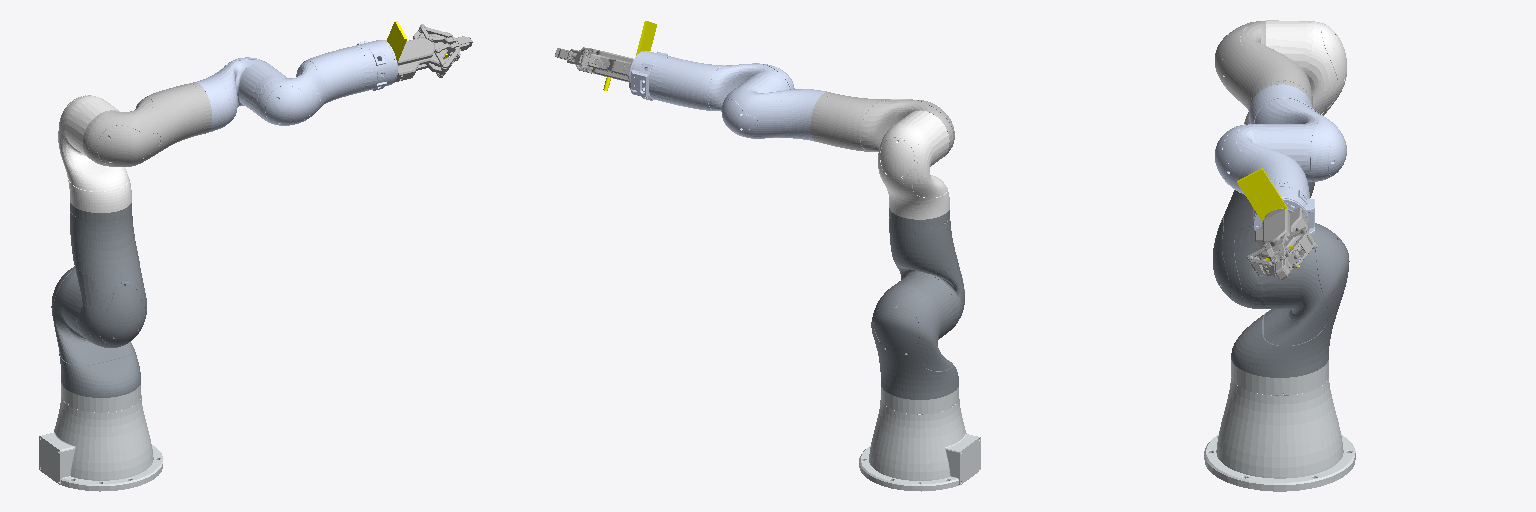
--- Facts derived from the render (not from the file) ---
3 views of the same robot in one strip: view 1: azimuth 30°, elevation 25°; view 2: azimuth 150°, elevation 25°; view 3: azimuth 270°, elevation 25° (orthographic).
Robot: srxrg_description — 25 links, 24 joints (7 revolute, 17 fixed); root link base_link; default pose: every joint at zero.
Links seen in each view (by area): view 1: base_link, Link2, Link6, Link4, Link1, Link3, Link5, Finger_base; view 2: base_link, Link1, Link3, Link6, Link4, Link5, Link2, Finger_base; view 3: base_link, Link1, Link5, Link4, Link6, Link3, Link2, Finger_base, link_line2.
Boxes of the visible links, <box> form: base_link: <box>39,383,162,491</box>; Link2: <box>70,203,146,347</box>; Link6: <box>252,40,395,125</box>; Link4: <box>83,82,211,166</box>; Link1: <box>51,266,140,397</box>; Link3: <box>58,95,131,212</box>; Link5: <box>196,57,284,133</box>; Finger_base: <box>385,33,447,81</box>; base_link: <box>859,387,980,491</box>; Link1: <box>871,273,958,399</box>; Link3: <box>878,110,949,219</box>; Link6: <box>631,51,794,110</box>; Link4: <box>810,92,954,156</box>; Link5: <box>721,75,826,141</box>; Link2: <box>889,208,964,330</box>; Finger_base: <box>587,50,633,81</box>; base_link: <box>1204,360,1355,491</box>; Link1: <box>1231,223,1349,377</box>; Link5: <box>1249,84,1346,181</box>; Link4: <box>1215,21,1312,110</box>; Link6: <box>1215,124,1314,234</box>; Link3: <box>1244,20,1346,124</box>; Link2: <box>1213,182,1314,308</box>; Finger_base: <box>1255,207,1308,260</box>; link_line2: <box>1237,168,1287,221</box>.
Size in the robot's own frame: 1.02 by 0.2598 by 0.8767 metres.
Meshes: 22 distinct files referenced, 22 mesh visuals loaded (22 binary STL).

robot.urdf — srxrg_description:
<robot
  name="srxrg_description">
  <link
    name="base_link">
    <inertial>
      <origin
        xyz="6.18219973711621E-06 0.000110386200661946 0.0668513713138598"
        rpy="0 0 0" />
      <mass
        value="3.12465417836201" />
      <inertia
        ixx="0.0240498298161914"
        ixy="5.53711229274737E-06"
        ixz="0.000240064013281234"
        iyy="0.0242274478295567"
        iyz="2.21358552459403E-05"
        izz="0.029864919468608" />
    </inertial>
    <visual>
      <origin
        xyz="0 0 0"
        rpy="0 0 0" />
      <geometry>
        <mesh
          filename="package://srxrg_description/meshes/base_link.STL" />
      </geometry>
      <material
        name="">
        <color
          rgba="0.898039215686275 0.917647058823529 0.929411764705882 1" />
      </material>
    </visual>
    <collision>
      <origin
        xyz="0 0 0"
        rpy="0 0 0" />
      <geometry>
        <mesh
          filename="package://srxrg_description/meshes/base_link.STL" />
      </geometry>
    </collision>
  </link>
  <link
    name="Link1">
    <inertial>
      <origin
        xyz="-0.000128335511665844 0.0323463091239493 0.111187858731537"
        rpy="0 0 0" />
      <mass
        value="1.96730291027439" />
      <inertia
        ixx="0.0150690524757784"
        ixy="-1.12038982022744E-05"
        ixz="-4.45687986097695E-06"
        iyy="0.0160665734255536"
        iyz="-0.00229312392126841"
        izz="0.00952655545819821" />
    </inertial>
    <visual>
      <origin
        xyz="0 0 0"
        rpy="0 0 0" />
      <geometry>
        <mesh
          filename="package://srxrg_description/meshes/Link1.STL" />
      </geometry>
      <material
        name="">
        <color
          rgba="0.592156862745098 0.619607843137255 0.650980392156863 1" />
      </material>
    </visual>
    <collision>
      <origin
        xyz="0 0 0"
        rpy="0 0 0" />
      <geometry>
        <mesh
          filename="package://srxrg_description/meshes/Link1.STL" />
      </geometry>
    </collision>
  </link>
  <joint
    name="Joint1"
    type="revolute">
    <origin
      xyz="0 0 0.19398"
      rpy="0 0 0" />
    <parent
      link="base_link" />
    <child
      link="Link1" />
    <axis
      xyz="0 0 -1" />
    <limit
      lower="-3"
      upper="3"
      effort="1"
      velocity="1" />
  </joint>
  <link
    name="Link2">
    <inertial>
      <origin
        xyz="1.10567326507469E-05 -0.00946904329682436 0.0939290191650072"
        rpy="0 0 0" />
      <mass
        value="1.78543772270183" />
      <inertia
        ixx="0.0161848642432049"
        ixy="-1.51273608600709E-05"
        ixz="-1.29116349344172E-06"
        iyy="0.0158966771178665"
        iyz="-0.00409508229104811"
        izz="0.00726322203852272" />
    </inertial>
    <visual>
      <origin
        xyz="0 0 0"
        rpy="0 0 0" />
      <geometry>
        <mesh
          filename="package://srxrg_description/meshes/Link2.STL" />
      </geometry>
      <material
        name="">
        <color
          rgba="0.592156862745098 0.619607843137255 0.650980392156863 1" />
      </material>
    </visual>
    <collision>
      <origin
        xyz="0 0 0"
        rpy="0 0 0" />
      <geometry>
        <mesh
          filename="package://srxrg_description/meshes/Link2.STL" />
      </geometry>
    </collision>
  </link>
  <joint
    name="Joint2"
    type="revolute">
    <origin
      xyz="0 -0.025 0.174"
      rpy="0 0 0" />
    <parent
      link="Link1" />
    <child
      link="Link2" />
    <axis
      xyz="0 -1 0" />
    <limit
      lower="-1.6"
      upper="1.6"
      effort="1"
      velocity="1" />
  </joint>
  <link
    name="Link3">
    <inertial>
      <origin
        xyz="-7.83302158362621E-05 0.0313850641303462 0.0991455006195104"
        rpy="0 0 0" />
      <mass
        value="1.39140771876416" />
      <inertia
        ixx="0.00800853215266351"
        ixy="1.22388946499061E-06"
        ixz="3.50492613439431E-06"
        iyy="0.00761689423428402"
        iyz="-0.00131227411193644"
        izz="0.00474551559743404" />
    </inertial>
    <visual>
      <origin
        xyz="0 0 0"
        rpy="0 0 0" />
      <geometry>
        <mesh
          filename="package://srxrg_description/meshes/Link3.STL" />
      </geometry>
      <material
        name="">
        <color
          rgba="1 1 1 1" />
      </material>
    </visual>
    <collision>
      <origin
        xyz="0 0 0"
        rpy="0 0 0" />
      <geometry>
        <mesh
          filename="package://srxrg_description/meshes/Link3.STL" />
      </geometry>
    </collision>
  </link>
  <joint
    name="Joint3"
    type="revolute">
    <origin
      xyz="0 0.026 0.2425"
      rpy="0 0 0" />
    <parent
      link="Link2" />
    <child
      link="Link3" />
    <axis
      xyz="0 0 -1" />
    <limit
      lower="-3"
      upper="3"
      effort="1"
      velocity="1" />
  </joint>
  <link
    name="Link4">
    <inertial>
      <origin
        xyz="0.0947908187874369 -0.00801710477913438 -2.83157713372173E-05"
        rpy="0 0 0" />
      <mass
        value="1.46476320455676" />
      <inertia
        ixx="0.00463862166180409"
        ixy="-0.00288786881699861"
        ixz="-4.42206129449527E-06"
        iyy="0.0112891891632063"
        iyz="-1.81567403720448E-06"
        izz="0.0119504171556014" />
    </inertial>
    <visual>
      <origin
        xyz="0 0 0"
        rpy="0 0 0" />
      <geometry>
        <mesh
          filename="package://srxrg_description/meshes/Link4.STL" />
      </geometry>
      <material
        name="">
        <color
          rgba="0.823529411764706 0.823529411764706 0.823529411764706 1" />
      </material>
    </visual>
    <collision>
      <origin
        xyz="0 0 0"
        rpy="0 0 0" />
      <geometry>
        <mesh
          filename="package://srxrg_description/meshes/Link4.STL" />
      </geometry>
    </collision>
  </link>
  <joint
    name="Joint4"
    type="revolute">
    <origin
      xyz="0 -0.025 0.1565"
      rpy="0 0 0" />
    <parent
      link="Link3" />
    <child
      link="Link4" />
    <axis
      xyz="0 1 0" />
    <limit
      lower="-3.5"
      upper="0.5"
      effort="1"
      velocity="1" />
  </joint>
  <link
    name="Link5">
    <inertial>
      <origin
        xyz="0.106843142604246 0.0287001212366735 -3.60623013119232E-05"
        rpy="0 0 0" />
      <mass
        value="1.02273553752168" />
      <inertia
        ixx="0.002964046072699"
        ixy="-0.000844024479509373"
        ixz="3.40061695549146E-06"
        iyy="0.00504265872682255"
        iyz="7.16181309267036E-06"
        izz="0.0055823228976265" />
    </inertial>
    <visual>
      <origin
        xyz="0 0 0"
        rpy="0 0 0" />
      <geometry>
        <mesh
          filename="package://srxrg_description/meshes/Link5.STL" />
      </geometry>
      <material
        name="">
        <color
          rgba="0.866666666666667 0.909803921568627 1 1" />
      </material>
    </visual>
    <collision>
      <origin
        xyz="0 0 0"
        rpy="0 0 0" />
      <geometry>
        <mesh
          filename="package://srxrg_description/meshes/Link5.STL" />
      </geometry>
    </collision>
  </link>
  <joint
    name="Joint5"
    type="revolute">
    <origin
      xyz="0.2375 0.026 0"
      rpy="0 0 0" />
    <parent
      link="Link4" />
    <child
      link="Link5" />
    <axis
      xyz="-1 0 0" />
    <limit
      lower="-3"
      upper="3"
      effort="1"
      velocity="1" />
  </joint>
  <link
    name="Link6">
    <inertial>
      <origin
        xyz="0.143694679335365 0.00111898266691152 -5.3497448055051E-05"
        rpy="0 0 0" />
      <mass
        value="1.39121310720524" />
      <inertia
        ixx="0.00400822242212615"
        ixy="-0.00439228582807588"
        ixz="-9.75107697749659E-06"
        iyy="0.0170317835841505"
        iyz="-5.19667773736681E-06"
        izz="0.0183671607921586" />
    </inertial>
    <visual>
      <origin
        xyz="0 0 0"
        rpy="0 0 0" />
      <geometry>
        <mesh
          filename="package://srxrg_description/meshes/Link6.STL" />
      </geometry>
      <material
        name="">
        <color
          rgba="0.866666666666667 0.909803921568627 1 1" />
      </material>
    </visual>
    <collision>
      <origin
        xyz="0 0 0"
        rpy="0 0 0" />
      <geometry>
        <mesh
          filename="package://srxrg_description/meshes/Link6.STL" />
      </geometry>
    </collision>
  </link>
  <joint
    name="Joint6"
    type="revolute">
    <origin
      xyz="0.1615 -0.025 0"
      rpy="0 0 0" />
    <parent
      link="Link5" />
    <child
      link="Link6" />
    <axis
      xyz="0 1 0" />
    <limit
      lower="-1.6"
      upper="1.6"
      effort="1"
      velocity="1" />
  </joint>
  <link
    name="Link7">
    <inertial>
      <origin
        xyz="-0.00443587816203461 -0.000123356437246248 6.90609373515949E-05"
        rpy="0 0 0" />
      <mass
        value="0.104269808522714" />
      <inertia
        ixx="0.000120663494046373"
        ixy="6.98616363357894E-08"
        ixz="-3.91119441998246E-08"
        iyy="6.09981740663255E-05"
        iyz="8.42486933498109E-07"
        izz="6.20313804954419E-05" />
    </inertial>
    <visual>
      <origin
        xyz="0 0 0"
        rpy="0 0 0" />
      <geometry>
        <mesh
          filename="package://srxrg_description/meshes/Link7.STL" />
      </geometry>
      <material
        name="">
        <color
          rgba="0.866666666666667 0.909803921568627 1 1" />
      </material>
    </visual>
    <collision>
      <origin
        xyz="0 0 0"
        rpy="0 0 0" />
      <geometry>
        <mesh
          filename="package://srxrg_description/meshes/Link7.STL" />
      </geometry>
    </collision>
  </link>
  <joint
    name="Joint7"
    type="revolute">
    <origin
      xyz="0.2905 0.026 0"
      rpy="0 0 0" />
    <parent
      link="Link6" />
    <child
      link="Link7" />
    <axis
      xyz="1 0 0" />
    <limit
      lower="-3"
      upper="3"
      effort="1"
      velocity="1" />
  </joint>
  <link
    name="Finger_base">
    <inertial>
      <origin
        xyz="-4.59930748533685E-05 0.0542361094507421 1.95299280505434E-05"
        rpy="0 0 0" />
      <mass
        value="0.343276115810123" />
      <inertia
        ixx="0.00053567128798686"
        ixy="-2.8796105914494E-07"
        ixz="2.48296916125466E-07"
        iyy="0.000205643355331306"
        iyz="-8.30871836722152E-08"
        izz="0.000616487064691526" />
    </inertial>
    <visual>
      <origin
        xyz="0 0 0"
        rpy="0 0 0" />
      <geometry>
        <mesh
          filename="package://srxrg_description/meshes/Finger_base.STL" />
      </geometry>
      <material
        name="">
        <color
          rgba="0.752941176470588 0.752941176470588 0.752941176470588 1" />
      </material>
    </visual>
    <collision>
      <origin
        xyz="0 0 0"
        rpy="0 0 0" />
      <geometry>
        <mesh
          filename="package://srxrg_description/meshes/Finger_base.STL" />
      </geometry>
    </collision>
  </link>
  <joint
    name="Joint_finger"
    type="fixed">
    <origin
      xyz="0.0035 0 0"
      rpy="3.1416 -0.5236 1.5708" />
    <parent
      link="Link7" />
    <child
      link="Finger_base" />
    <axis
      xyz="0 0 0" />
  </joint>
  <link name="link_line">
    <visual>
      <origin rpy="0 0 0" xyz=" 0 0 0"/>
      <geometry>
        <cylinder length="0.03" radius="0.005"/>
      </geometry>
      <material name="blue">
        <color rgba="1 1 0 1" />
      </material>
    </visual>
    <collision>
      <origin rpy="0 0 0" xyz=" 0 0 0"/>
      <geometry>
        <box size="0.005 0.005 0.03"/>
      </geometry>
    </collision>
    <inertial>
      <origin xyz="0 0 0" rpy="0 0 0"/>
      <mass value="1"/>
      <inertia
                                ixx="0.3342" ixy="0.0" ixz="0.0"
                                iyy="0.3342" iyz="0.0"
                                izz="0.0017"/>
    </inertial>
  </link>
  <joint
    name="Joint_line"
    type="fixed">
    <origin
      xyz="0 0.065 0.040"
      rpy="0 0 0" />
    <parent
      link="Finger_base" />
    <child
      link="link_line" />
  </joint>
  <link name="link_line2">
    <visual>
      <origin rpy="0 0 0" xyz=" 0 0 0"/>
      <geometry>
        <box size="0.05 0.006 0.10"/>
      </geometry>
      <material name="blue">
        <color rgba="1 1 0 1" />
      </material>
    </visual>
    <collision>
      <origin rpy="0 0 0" xyz=" 0 0 0"/>
      <geometry>
        <box size="0.05 0.02 0.10"/>
      </geometry>
    </collision>
    <inertial>
      <origin xyz="0 0 0" rpy="0 0 0"/>
      <mass value="1"/>
      <inertia
                                ixx="0.3342" ixy="0.0" ixz="0.0"
                                iyy="0.3342" iyz="0.0"
                                izz="0.0017"/>
    </inertial>
  </link>
  <joint
    name="Joint_line2"
    type="fixed">
    <origin
      xyz="0 0 -0.06"
      rpy="0 0 0" />
    <parent
      link="Finger_base" />
    <child
      link="link_line2" />
  </joint>
  <link name="link_line3">
    <visual>
      <origin rpy="0 0 0" xyz=" 0 0 0"/>
      <geometry>
        <box size="0.05 0.02 0.02"/>
      </geometry>
      <material name="blue">
        <color rgba="1 1 0 1.0" />
      </material>
    </visual>
    <collision>
      <origin rpy="0 0 0" xyz=" 0 0 0"/>
      <geometry>
        <box size="0.15 0.20 0.05"/>
      </geometry>
    </collision>
    <inertial>
      <origin xyz="0 0 0" rpy="0 0 0"/>
      <mass value="1"/>
      <inertia
                                ixx="0.3342" ixy="0.0" ixz="0.0"
                                iyy="0.3342" iyz="0.0"
                                izz="0.0017"/>
    </inertial>
  </link>
  <joint
    name="Joint_line3"
    type="fixed">
    <origin
      xyz="0 0.12 0"
      rpy="0 0 0" />
    <parent
      link="Finger_base" />
    <child
      link="link_line3" />
  </joint>
  <link
    name="Finger_pri">
    <inertial>
      <origin
        xyz="0.0888036924475795 -1.04665581757146E-12 -0.00200000000011058"
        rpy="0 0 0" />
      <mass
        value="0.00662164796630453" />
      <inertia
        ixx="1.47189453046195E-06"
        ixy="1.68519211059206E-17"
        ixz="9.162498314521E-19"
        iyy="1.8935961543657E-07"
        iyz="4.28965014181768E-17"
        izz="1.42118542904774E-06" />
    </inertial>
    <visual>
      <origin
        xyz="0 0 0"
        rpy="0 0 0" />
      <geometry>
        <mesh
          filename="package://srxrg_description/meshes/Finger_pri.STL" />
      </geometry>
      <material
        name="">
        <color
          rgba="0.752941176470588 0.752941176470588 0.752941176470588 1" />
      </material>
    </visual>
    <collision>
      <origin
        xyz="0 0 0"
        rpy="0 0 0" />
      <geometry>
        <mesh
          filename="package://srxrg_description/meshes/Finger_pri.STL" />
      </geometry>
    </collision>
  </link>
  <joint
    name="Joint_finger_pri"
    type="fixed">
    <origin
      xyz="0 -0.0035 0"
      rpy="3.1416 0 1.5708" />
    <parent
      link="Finger_base" />
    <child
      link="Finger_pri" />
    <axis
      xyz="1 0 0" />
    <limit
      lower="-0.2"
      upper="0"
      effort="1"
      velocity="1" />
		<mimic
			joint ="Joint_left4"
			multiplier="0.035"
			offset="0"/>
  </joint>
  <link
    name="Finger_left1">
    <inertial>
      <origin
        xyz="0.0113775739324964 -0.0227982147778134 -0.00550000003910178"
        rpy="0 0 0" />
      <mass
        value="0.0067721584163023" />
      <inertia
        ixx="1.13031775220139E-06"
        ixy="5.67848789197471E-07"
        ixz="-6.119724990539E-16"
        iyy="8.61820278601456E-07"
        iyz="-3.43012960849989E-15"
        izz="1.40053151762759E-06" />
    </inertial>
    <visual>
      <origin
        xyz="0 0 0"
        rpy="0 0 0" />
      <geometry>
        <mesh
          filename="package://srxrg_description/meshes/Finger_left1.STL" />
      </geometry>
      <material
        name="">
        <color
          rgba="0.752941176470588 0.752941176470588 0.752941176470588 1" />
      </material>
    </visual>
    <collision>
      <origin
        xyz="0 0 0"
        rpy="0 0 0" />
      <geometry>
        <mesh
          filename="package://srxrg_description/meshes/Finger_left1.STL" />
      </geometry>
    </collision>
  </link>
  <joint
    name="Joint_left1"
    type="fixed">
    <origin
      xyz="0.088804 -0.02135 0.0055"
      rpy="0 0 0" />
    <parent
      link="Finger_pri" />
    <child
      link="Finger_left1" />
    <axis
      xyz="0 0 1" />
    <limit
      lower="-3"
      upper="3"
      effort="1"
      velocity="1" />
		<mimic
			joint ="Joint_left4"
			multiplier="-0.34"
			offset="0"/>
  </joint>
  <link
    name="Finger_right1">
    <inertial>
      <origin
        xyz="0.0113775739324979 0.0227982147778138 -0.00749999996089812"
        rpy="0 0 0" />
      <mass
        value="0.00677215841630222" />
      <inertia
        ixx="1.13031775220137E-06"
        ixy="-5.67848789197465E-07"
        ixz="6.11978096904412E-16"
        iyy="8.61820278601449E-07"
        iyz="-3.43011590733801E-15"
        izz="1.40053151762757E-06" />
    </inertial>
    <visual>
      <origin
        xyz="0 0 0"
        rpy="0 0 0" />
      <geometry>
        <mesh
          filename="package://srxrg_description/meshes/Finger_right1.STL" />
      </geometry>
      <material
        name="">
        <color
          rgba="0.752941176470588 0.752941176470588 0.752941176470588 1" />
      </material>
    </visual>
    <collision>
      <origin
        xyz="0 0 0"
        rpy="0 0 0" />
      <geometry>
        <mesh
          filename="package://srxrg_description/meshes/Finger_right1.STL" />
      </geometry>
    </collision>
  </link>
  <joint
    name="Joint_right1"
    type="fixed">
    <origin
      xyz="0.088804 0.02135 0.0055"
      rpy="0 0 0" />
    <parent
      link="Finger_pri" />
    <child
      link="Finger_right1" />
    <axis
      xyz="0 0 1" />
    <limit
      lower="-3"
      upper="3"
      effort="1"
      velocity="1" />
		<mimic
			joint ="Joint_left1"
			multiplier="-1"
			offset="0"/>
  </joint>
  <link
    name="Finger_left2">
    <inertial>
      <origin
        xyz="-0.00130449080979189 -0.0194186654059753 -0.0260500052109737"
        rpy="0 0 0" />
      <mass
        value="0.00395410525550463" />
      <inertia
        ixx="1.76672915174595E-06"
        ixy="-3.05562444738469E-09"
        ixz="-5.39592128639108E-15"
        iyy="1.15336373945615E-06"
        iyz="-1.18596556313359E-13"
        izz="6.83893539318861E-07" />
    </inertial>
    <visual>
      <origin
        xyz="0 0 0"
        rpy="0 0 0" />
      <geometry>
        <mesh
          filename="package://srxrg_description/meshes/Finger_left2.STL" />
      </geometry>
      <material
        name="">
        <color
          rgba="0.752941176470588 0.752941176470588 0.752941176470588 1" />
      </material>
    </visual>
    <collision>
      <origin
        xyz="0 0 0"
        rpy="0 0 0" />
      <geometry>
        <mesh
          filename="package://srxrg_description/meshes/Finger_left2.STL" />
      </geometry>
    </collision>
  </link>
  <joint
    name="Joint_left2"
    type="fixed">
    <origin
      xyz="-0.016 0.10586 -0.02595"
      rpy="3.1416 0 1.5708" />
    <parent
      link="Finger_base" />
    <child
      link="Finger_left2" />
    <axis
      xyz="0 0 1" />
    <limit
      lower="-1"
      upper="0"
      effort="1"
      velocity="1" />
		<mimic
			joint ="Joint_left4"
			multiplier="0.69"
			offset="0"/>
  </joint>
  <link
    name="Finger_left3">
    <inertial>
      <origin
        xyz="0.0224066762954059 0.0133425492731224 -0.0206500001885183"
        rpy="0 0 0" />
      <mass
        value="0.00793134117240326" />
      <inertia
        ixx="1.71532122768515E-06"
        ixy="-1.15663986906139E-06"
        ixz="-2.04035062817532E-14"
        iyy="2.58035623170806E-06"
        iyz="-1.14125123756194E-14"
        izz="2.58419007708791E-06" />
    </inertial>
    <visual>
      <origin
        xyz="0 0 0"
        rpy="0 0 0" />
      <geometry>
        <mesh
          filename="package://srxrg_description/meshes/Finger_left3.STL" />
      </geometry>
      <material
        name="">
        <color
          rgba="0.752941176470588 0.752941176470588 0.752941176470588 1" />
      </material>
    </visual>
    <collision>
      <origin
        xyz="0 0 0"
        rpy="0 0 0" />
      <geometry>
        <mesh
          filename="package://srxrg_description/meshes/Finger_left3.STL" />
      </geometry>
    </collision>
  </link>
  <joint
    name="Joint_left3"
    type="fixed">
    <origin
      xyz="-5.4499E-05 -0.037 -0.00595"
      rpy="0 0 0" />
    <parent
      link="Finger_left2" />
    <child
      link="Finger_left3" />
    <axis
      xyz="0 0 1" />
    <limit
      lower="-1"
      upper="0"
      effort="1"
      velocity="1" />
		<mimic
			joint ="Joint_left4"
			multiplier="0.31"
			offset="0"/>
  </joint>
  <link
    name="Finger_left4">
    <inertial>
      <origin
        xyz="0.027398909792468 0.00428586249976074 -0.00875000752955646"
        rpy="0 0 0" />
      <mass
        value="0.00751879878101853" />
      <inertia
        ixx="1.93466046322454E-07"
        ixy="-3.10499742842125E-07"
        ixz="-1.41173206458827E-12"
        iyy="2.12986907062649E-06"
        iyz="-7.56635203586615E-14"
        izz="2.16158483232228E-06" />
    </inertial>
    <visual>
      <origin
        xyz="0 0 0"
        rpy="0 0 0" />
      <geometry>
        <mesh
          filename="package://srxrg_description/meshes/Finger_left4.STL" />
      </geometry>
      <material
        name="">
        <color
          rgba="0.752941176470588 0.752941176470588 0.752941176470588 1" />
      </material>
    </visual>
    <collision>
      <origin
        xyz="0 0 0"
        rpy="0 0 0" />
      <geometry>
        <mesh
          filename="package://srxrg_description/meshes/Finger_left4.STL" />
      </geometry>
    </collision>
  </link>
  <joint
    name="Joint_left4"
    type="fixed">
    <origin
      xyz="-0.036673 0.098336 -0.0087"
      rpy="3.1416 0 1.5708" />
    <parent
      link="Finger_base" />
    <child
      link="Finger_left4" />
    <axis
      xyz="0 0 1" />
    <limit
      lower="-0.9"
      upper="0"
      effort="1"
      velocity="1" />
  </joint>
  <link
    name="Finger_left5">
    <inertial>
      <origin
        xyz="0.0181551598252567 0.0187019470399548 -0.00954999995395245"
        rpy="0 0 0" />
      <mass
        value="0.0124305320390433" />
      <inertia
        ixx="1.11815425779367E-06"
        ixy="-8.24539177786039E-07"
        ixz="-2.41375915378097E-13"
        iyy="2.84216799451514E-06"
        iyz="2.24515623837479E-15"
        izz="3.03960728679141E-06" />
    </inertial>
    <visual>
      <origin
        xyz="0 0 0"
        rpy="0 0 0" />
      <geometry>
        <mesh
          filename="package://srxrg_description/meshes/Finger_left5.STL" />
      </geometry>
      <material
        name="">
        <color
          rgba="0.752941176470588 0.752941176470588 0.752941176470588 1" />
      </material>
    </visual>
    <collision>
      <origin
        xyz="0 0 0"
        rpy="0 0 0" />
      <geometry>
        <mesh
          filename="package://srxrg_description/meshes/Finger_left5.STL" />
      </geometry>
    </collision>
  </link>
  <joint
    name="Joint_left5"
    type="fixed">
    <origin
      xyz="0.054339 0.0085 0.00025"
      rpy="0 0 0" />
    <parent
      link="Finger_left4" />
    <child
      link="Finger_left5" />
    <axis
      xyz="0 0 1" />
    <limit
      lower="-3"
      upper="3"
      effort="1"
      velocity="1" />
		<mimic
			joint ="Joint_left4"
			multiplier="-1"
			offset="0"/>
  </joint>
  <link
    name="Finger_left6">
    <inertial>
      <origin
        xyz="-0.0316014322979843 -0.00371881802815473 -0.013449999993876"
        rpy="0 0 0" />
      <mass
        value="0.0113168710489682" />
      <inertia
        ixx="3.23559597894682E-06"
        ixy="-6.16023588799709E-07"
        ixz="-3.62582213093835E-16"
        iyy="6.58756808814867E-06"
        iyz="-4.05042666226583E-17"
        izz="3.73462979066619E-06" />
    </inertial>
    <visual>
      <origin
        xyz="0 0 0"
        rpy="0 0 0" />
      <geometry>
        <mesh
          filename="package://srxrg_description/meshes/Finger_left6.STL" />
      </geometry>
      <material
        name="">
        <color
          rgba="0.752941176470588 0.752941176470588 0.752941176470588 1" />
      </material>
    </visual>
    <collision>
      <origin
        xyz="0 0 0"
        rpy="0 0 0" />
      <geometry>
        <mesh
          filename="package://srxrg_description/meshes/Finger_left6.STL" />
      </geometry>
    </collision>
  </link>
  <joint
    name="Joint_left6"
    type="fixed">
    <origin
      xyz="0.0075244 0.020673 0.00495"
      rpy="0 0 0" />
    <parent
      link="Finger_left5" />
    <child
      link="Finger_left6" />
    <axis
      xyz="0 0 1" />
    <limit
      lower="-3"
      upper="3"
      effort="1"
      velocity="1" />
		<mimic
			joint ="Joint_left4"
			multiplier="1"
			offset="0"/>
  </joint>
  <link
    name="Finger_right2">
    <inertial>
      <origin
        xyz="-0.001304490809792 0.0194186654059752 -0.026049994788957"
        rpy="0 0 0" />
      <mass
        value="0.00395410525550457" />
      <inertia
        ixx="1.76672915174593E-06"
        ixy="3.0556244473837E-09"
        ixz="5.3959238412951E-15"
        iyy="1.15336373945613E-06"
        iyz="-1.18596562601984E-13"
        izz="6.8389353931885E-07" />
    </inertial>
    <visual>
      <origin
        xyz="0 0 0"
        rpy="0 0 0" />
      <geometry>
        <mesh
          filename="package://srxrg_description/meshes/Finger_right2.STL" />
      </geometry>
      <material
        name="">
        <color
          rgba="0.752941176470588 0.752941176470588 0.752941176470588 1" />
      </material>
    </visual>
    <collision>
      <origin
        xyz="0 0 0"
        rpy="0 0 0" />
      <geometry>
        <mesh
          filename="package://srxrg_description/meshes/Finger_right2.STL" />
      </geometry>
    </collision>
  </link>
  <joint
    name="Joint_right2"
    type="fixed">
    <origin
      xyz="0.016 0.10586 -0.02405"
      rpy="3.1416 0 1.5708" />
    <parent
      link="Finger_base" />
    <child
      link="Finger_right2" />
    <axis
      xyz="0 0 1" />
    <limit
      lower="0"
      upper="1"
      effort="1"
      velocity="1" />
		<mimic
			joint ="Joint_left2"
			multiplier="-1"
			offset="0"/>
  </joint>
  <link
    name="Finger_right3">
    <inertial>
      <origin
        xyz="0.0224066762954037 -0.0133425492731216 -0.0205499998114452"
        rpy="0 0 0" />
      <mass
        value="0.00793134117240327" />
      <inertia
        ixx="1.71532122768508E-06"
        ixy="1.15663986906133E-06"
        ixz="2.04034047282237E-14"
        iyy="2.58035623170803E-06"
        iyz="-1.14124422683643E-14"
        izz="2.58419007708781E-06" />
    </inertial>
    <visual>
      <origin
        xyz="0 0 0"
        rpy="0 0 0" />
      <geometry>
        <mesh
          filename="package://srxrg_description/meshes/Finger_right3.STL" />
      </geometry>
      <material
        name="">
        <color
          rgba="0.752941176470588 0.752941176470588 0.752941176470588 1" />
      </material>
    </visual>
    <collision>
      <origin
        xyz="0 0 0"
        rpy="0 0 0" />
      <geometry>
        <mesh
          filename="package://srxrg_description/meshes/Finger_right3.STL" />
      </geometry>
    </collision>
  </link>
  <joint
    name="Joint_right3"
    type="fixed">
    <origin
      xyz="-5.4499E-05 0.037 -0.00605"
      rpy="0 0 0" />
    <parent
      link="Finger_right2" />
    <child
      link="Finger_right3" />
    <axis
      xyz="0 0 1" />
    <limit
      lower="-3"
      upper="3"
      effort="1"
      velocity="1" />
		<mimic
			joint ="Joint_left3"
			multiplier="-1"
			offset="0"/>
  </joint>
  <link
    name="Finger_right4">
    <inertial>
      <origin
        xyz="0.0273989097924681 -0.00428586249976076 -0.008749992470371"
        rpy="0 0 0" />
      <mass
        value="0.0075187987810185" />
      <inertia
        ixx="1.93466046322452E-07"
        ixy="3.10499742842117E-07"
        ixz="1.4117320627404E-12"
        iyy="2.12986907062648E-06"
        iyz="-7.56635203176596E-14"
        izz="2.16158483232226E-06" />
    </inertial>
    <visual>
      <origin
        xyz="0 0 0"
        rpy="0 0 0" />
      <geometry>
        <mesh
          filename="package://srxrg_description/meshes/Finger_right4.STL" />
      </geometry>
      <material
        name="">
        <color
          rgba="0.752941176470588 0.752941176470588 0.752941176470588 1" />
      </material>
    </visual>
    <collision>
      <origin
        xyz="0 0 0"
        rpy="0 0 0" />
      <geometry>
        <mesh
          filename="package://srxrg_description/meshes/Finger_right4.STL" />
      </geometry>
    </collision>
  </link>
  <joint
    name="Joint_right4"
    type="fixed">
    <origin
      xyz="0.036673 0.098336 -0.0087"
      rpy="3.1416 0 1.5708" />
    <parent
      link="Finger_base" />
    <child
      link="Finger_right4" />
    <axis
      xyz="0 0 1" />
    <limit
      lower="-3"
      upper="3"
      effort="1"
      velocity="1" />
		<mimic
			joint ="Joint_left4"
			multiplier="-1"
			offset="0"/>
  </joint>
  <link
    name="Finger_right5">
    <inertial>
      <origin
        xyz="0.0181551598252571 -0.0187019470399539 -0.00945000004607655"
        rpy="0 0 0" />
      <mass
        value="0.012430532039043" />
      <inertia
        ixx="1.11815425779355E-06"
        ixy="8.24539177785925E-07"
        ixz="2.41375892022947E-13"
        iyy="2.842167994515E-06"
        iyz="2.24517327119969E-15"
        izz="3.03960728679118E-06" />
    </inertial>
    <visual>
      <origin
        xyz="0 0 0"
        rpy="0 0 0" />
      <geometry>
        <mesh
          filename="package://srxrg_description/meshes/Finger_right5.STL" />
      </geometry>
      <material
        name="">
        <color
          rgba="0.752941176470588 0.752941176470588 0.752941176470588 1" />
      </material>
    </visual>
    <collision>
      <origin
        xyz="0 0 0"
        rpy="0 0 0" />
      <geometry>
        <mesh
          filename="package://srxrg_description/meshes/Finger_right5.STL" />
      </geometry>
    </collision>
  </link>
  <joint
    name="Joint_right5"
    type="fixed">
    <origin
      xyz="0.054339 -0.0085 0.00025"
      rpy="0 0 0" />
    <parent
      link="Finger_right4" />
    <child
      link="Finger_right5" />
    <axis
      xyz="0 0 1" />
    <limit
      lower="-3"
      upper="3"
      effort="1"
      velocity="1" />
		<mimic
			joint ="Joint_right4"
			multiplier="-1"
			offset="0"/>
  </joint>
  <link
    name="Finger_right6">
    <inertial>
      <origin
        xyz="-0.0316014322979855 0.00371881802815439 -0.0154500000061237"
        rpy="0 0 0" />
      <mass
        value="0.0113168710489677" />
      <inertia
        ixx="3.2355959789468E-06"
        ixy="6.16023588799599E-07"
        ixz="3.62906879591927E-16"
        iyy="6.58756808814859E-06"
        iyz="-4.06353387719806E-17"
        izz="3.73462979066599E-06" />
    </inertial>
    <visual>
      <origin
        xyz="0 0 0"
        rpy="0 0 0" />
      <geometry>
        <mesh
          filename="package://srxrg_description/meshes/Finger_right6.STL" />
      </geometry>
      <material
        name="">
        <color
          rgba="0.752941176470588 0.752941176470588 0.752941176470588 1" />
      </material>
    </visual>
    <collision>
      <origin
        xyz="0 0 0"
        rpy="0 0 0" />
      <geometry>
        <mesh
          filename="package://srxrg_description/meshes/Finger_right6.STL" />
      </geometry>
    </collision>
  </link>
  <joint
    name="Joint_right6"
    type="fixed">
    <origin
      xyz="0.0075244 -0.020673 0.00505"
      rpy="0 0 0" />
    <parent
      link="Finger_right5" />
    <child
      link="Finger_right6" />
    <axis
      xyz="0 0 1" />
    <limit
      lower="-3"
      upper="3"
      effort="1"
      velocity="1" />
		<mimic
			joint ="Joint_right4"
			multiplier="1"
			offset="0"/>
  </joint>
</robot>
